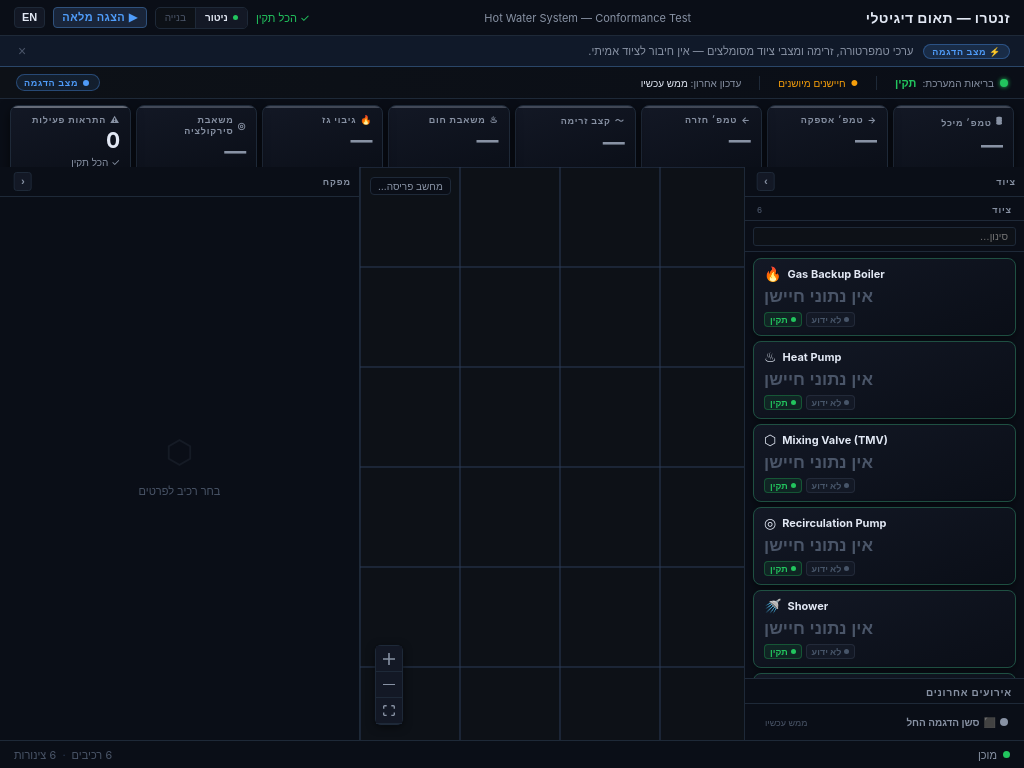
Test: Demo Info Strip › dismisses the demo info strip when × is clicked
Click the button with test id "demo-info-dismiss": (22, 51) [14,42,30,60]
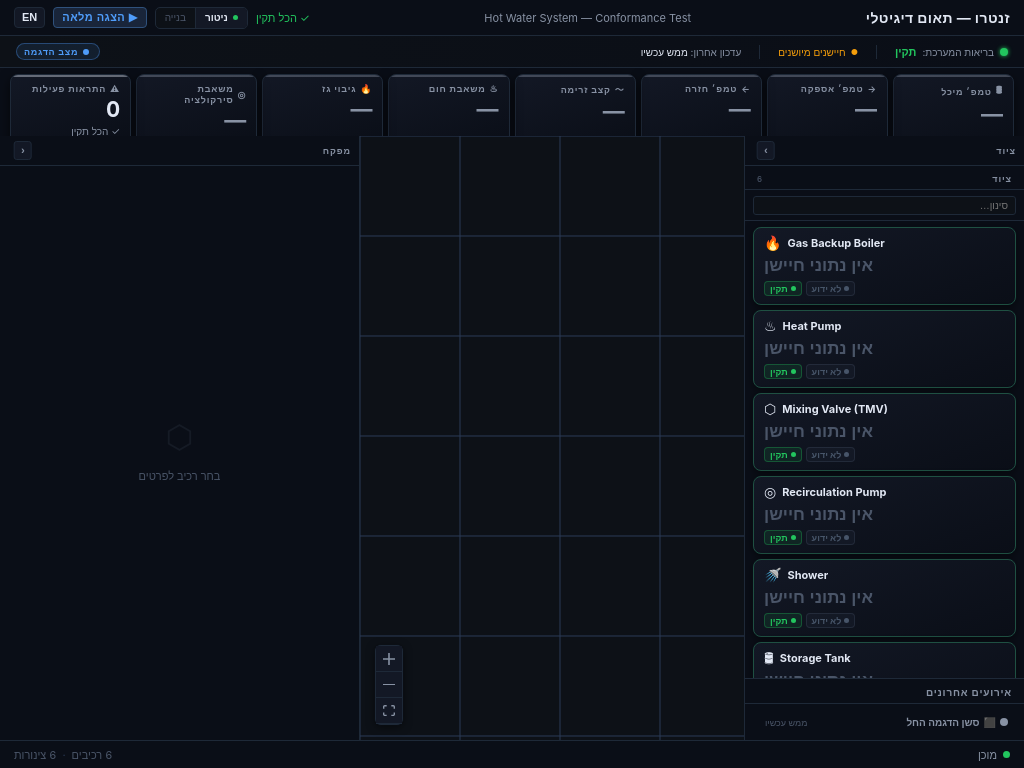
Expected: the element with test id "demo-info-strip" is gone
